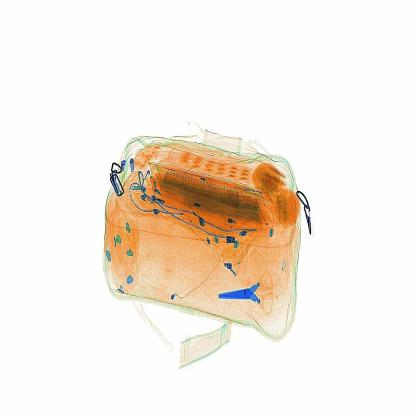gun: (215, 273, 279, 318)
